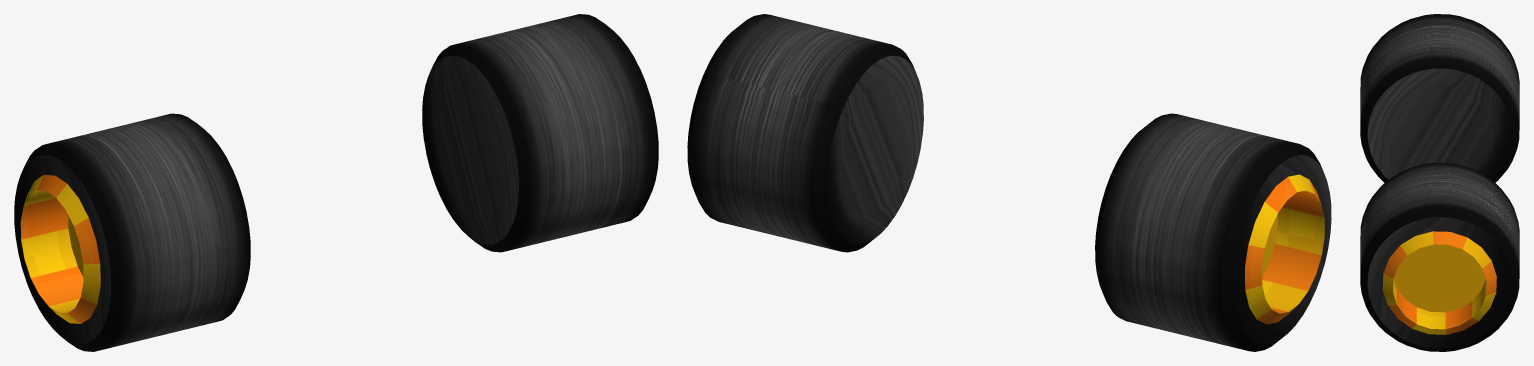
The model's file is LlantasTraseras.obj.
The picture shows the model from 3 angles, left to right: view 1: azimuth 30°, elevation 25°; view 2: azimuth 150°, elevation 25°; view 3: azimuth 270°, elevation 25°; orthographic projection. The views are drawn at different scales.
Visible parts, largest first — view 1: Llantas2:polySurface12; view 2: Llantas2:polySurface12; view 3: Llantas2:polySurface12.
Boxes of the visible parts, x1,y1,x2,y2 form: Llantas2:polySurface12: (14, 14, 658, 351); Llantas2:polySurface12: (687, 14, 1331, 351); Llantas2:polySurface12: (1360, 14, 1519, 351).
Size of the model in its own units: 0.4694 by 0.1524 by 0.1524.
2 materials, 2 textured.
